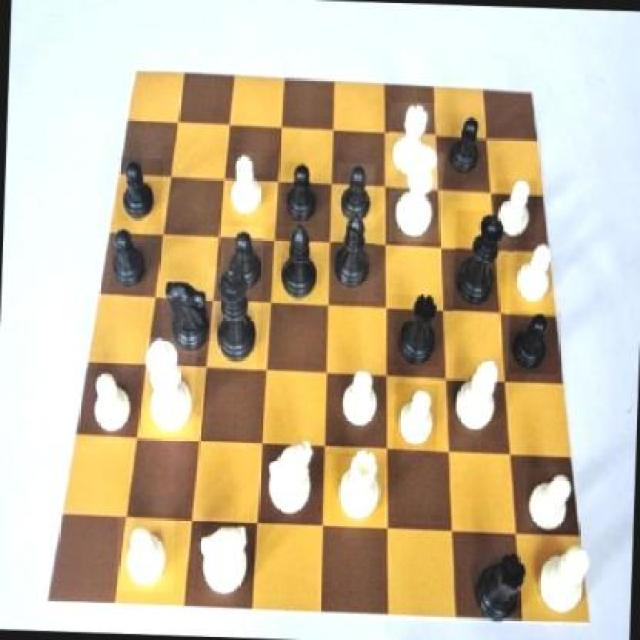bishop: (329, 218, 376, 302), (276, 225, 320, 307)
black-bishop: (204, 266, 260, 372)
black-king: (160, 278, 212, 358)
black-knight: (440, 110, 488, 184), (508, 311, 560, 374), (116, 157, 162, 224), (109, 220, 149, 295), (218, 226, 262, 293), (336, 161, 376, 224), (283, 162, 320, 228)
black-pawn: (454, 210, 509, 314)
black-queen: (466, 542, 533, 628), (388, 294, 442, 368)
black-rook: (532, 542, 596, 620), (452, 357, 506, 438)
white-bishop: (143, 337, 197, 437)
white-king: (193, 518, 254, 592), (263, 437, 316, 519)
white-knight: (77, 368, 140, 440), (116, 517, 174, 592), (336, 362, 388, 436), (522, 466, 579, 531), (494, 178, 538, 248), (394, 383, 438, 452), (511, 242, 554, 306), (228, 152, 264, 222)
white-pawn: (388, 151, 444, 243)
white-queen: (330, 452, 386, 528), (388, 103, 437, 183)
